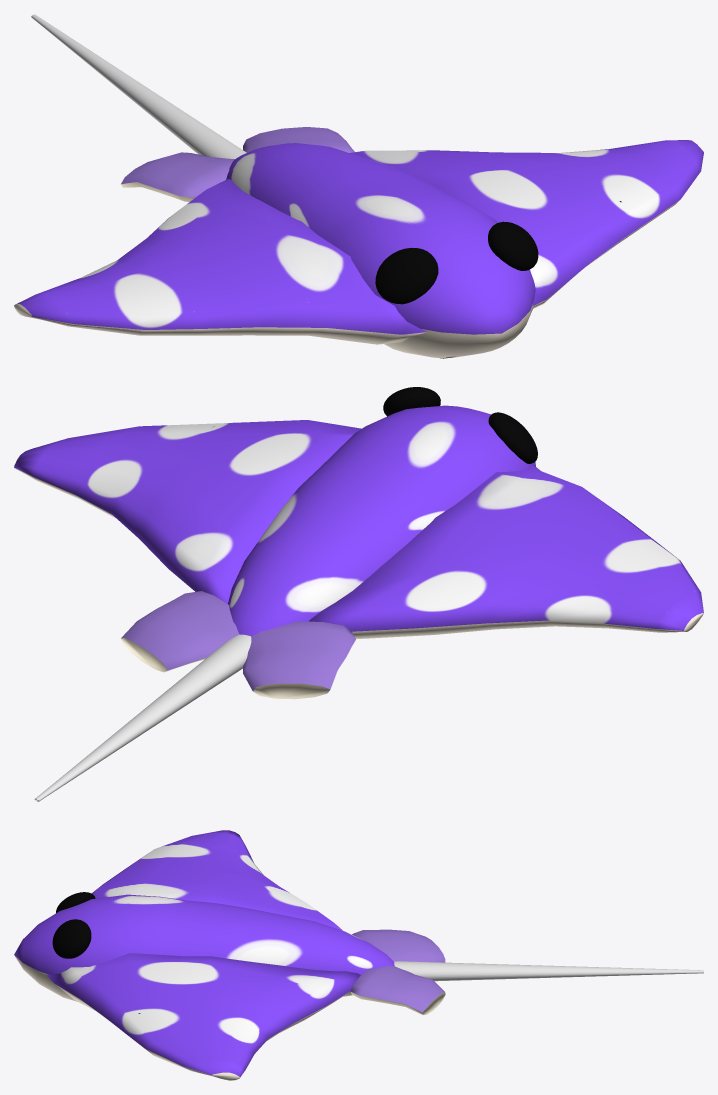
The model's file is stingray_2.fbx.
The picture shows the model from 3 angles, top to bottom: view 1: azimuth 30°, elevation 25°; view 2: azimuth 150°, elevation 25°; view 3: azimuth 270°, elevation 25°; orthographic projection. The views are drawn at different scales.
Visible parts, largest first — view 1: fin_right, body, fin_left, ventral_fin, eyes, tail; view 2: fin_right, body, fin_left, ventral_fin, tail, eyes; view 3: fin_left, body, fin_right, ventral_fin, tail, eyes.
Boxes of the visible parts, bbox=[...] form: fin_right: bbox=[14, 178, 427, 344]; body: bbox=[226, 143, 535, 358]; fin_left: bbox=[349, 140, 703, 308]; ventral_fin: bbox=[121, 127, 354, 201]; eyes: bbox=[375, 221, 538, 304]; tail: bbox=[31, 14, 246, 158]; fin_right: bbox=[309, 464, 703, 638]; body: bbox=[228, 405, 535, 636]; fin_left: bbox=[14, 420, 361, 603]; ventral_fin: bbox=[121, 591, 355, 699]; tail: bbox=[34, 634, 251, 801]; eyes: bbox=[383, 387, 537, 463]; fin_left: bbox=[46, 953, 360, 1080]; body: bbox=[14, 894, 394, 1001]; fin_right: bbox=[91, 830, 342, 930]; ventral_fin: bbox=[350, 929, 445, 1014]; tail: bbox=[394, 961, 703, 981]; eyes: bbox=[52, 892, 95, 958].
Bounding box in the file's own units: 2509 × 455 × 3018.
Materials: 4 (2 with a texture image).
